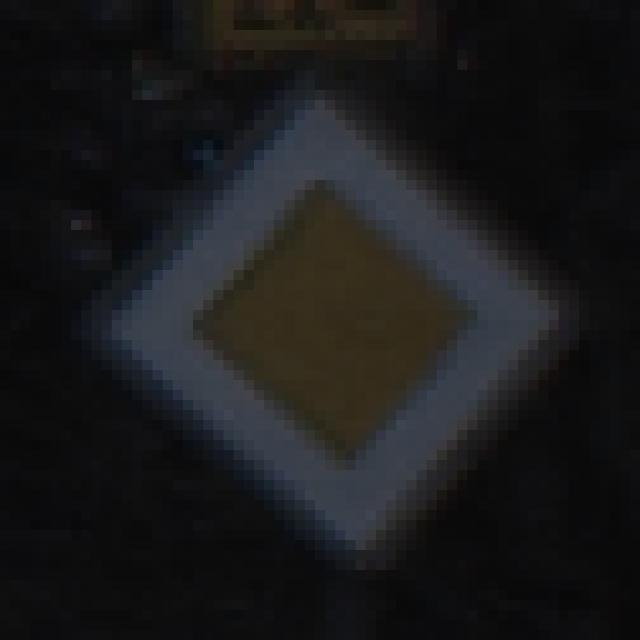Main Road: (62, 51, 590, 591)
